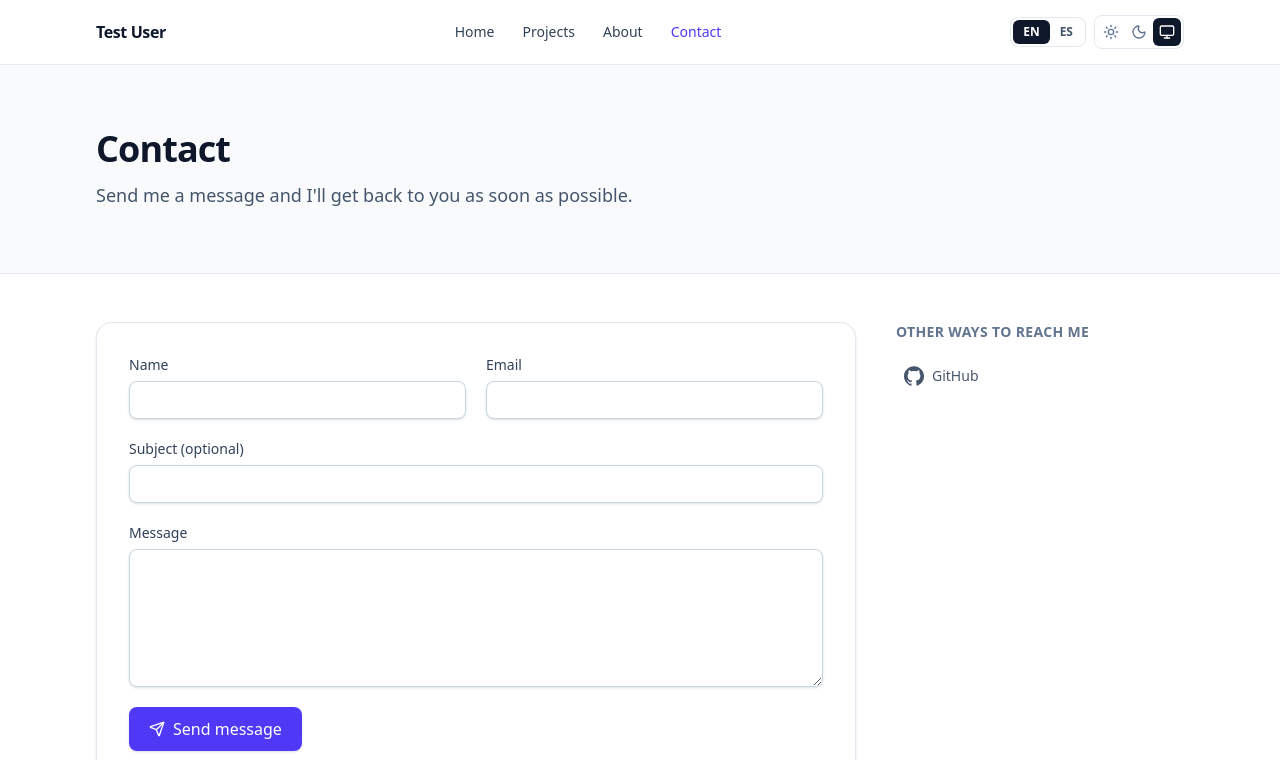
ContactForm › validates fields before sending
Click the button "Send message". click: (215,729)
box: 129,707 -> 302,751
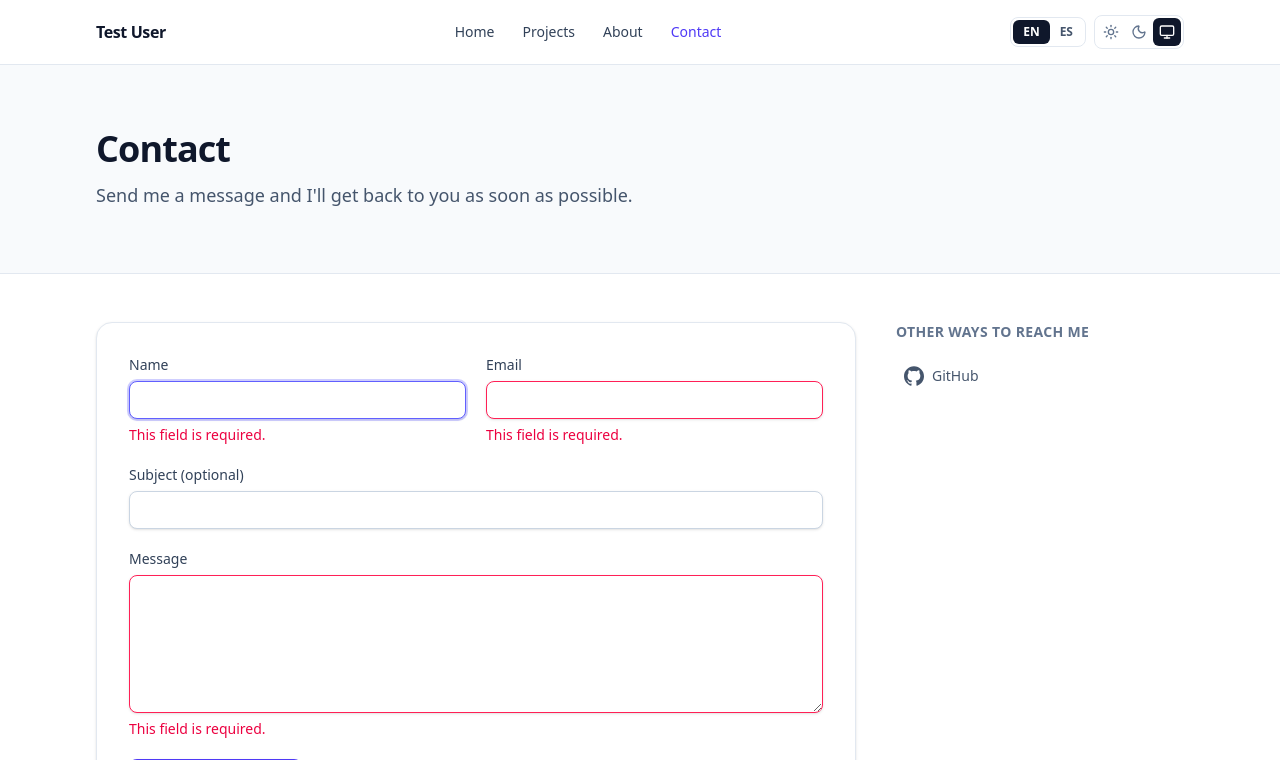
Expected: the text "This field is required." is shown 3 times, 129,425 -> 266,444; 486,425 -> 623,444; 129,719 -> 266,738
